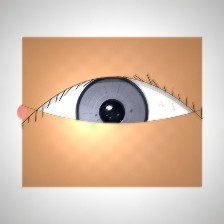pinguecula_lesion: (27, 96, 77, 136)
